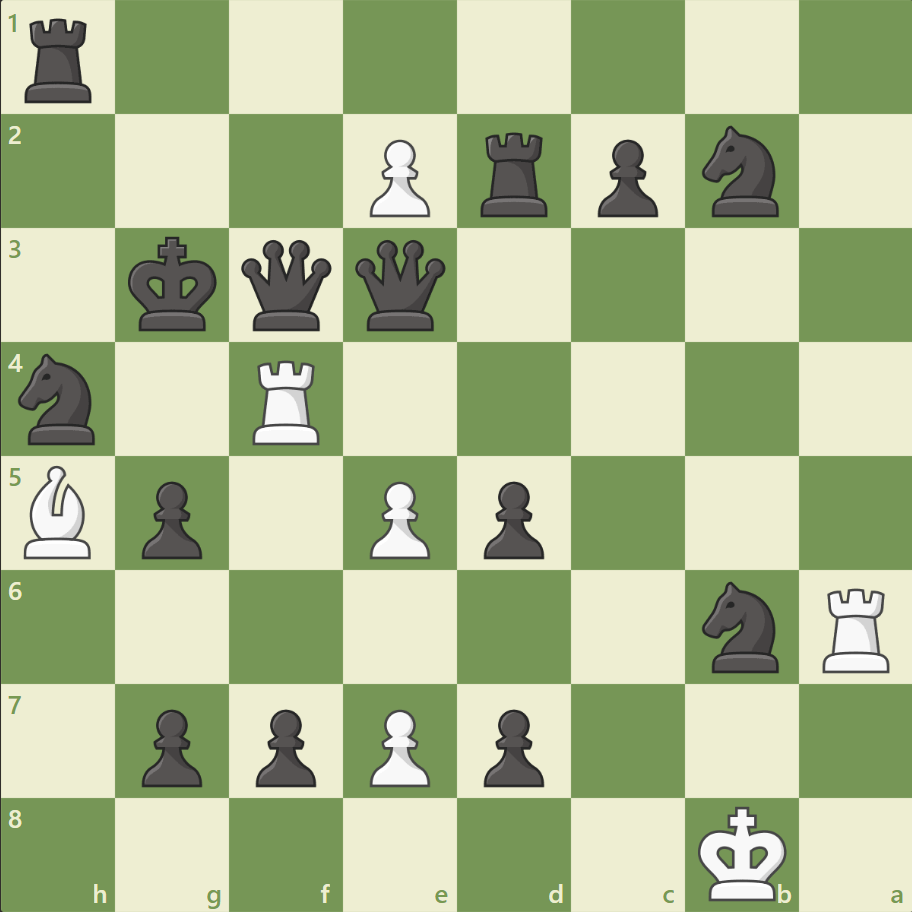B: (17, 460, 101, 563)
K: (692, 798, 792, 906)
P: (361, 700, 435, 791), (361, 473, 435, 564), (361, 132, 435, 223)
R: (814, 579, 897, 676), (246, 352, 329, 449)
k: (124, 231, 224, 339)
n: (692, 575, 789, 677), (11, 348, 108, 450), (692, 121, 789, 223)
p: (474, 700, 549, 791), (247, 700, 322, 791), (133, 700, 208, 791), (474, 473, 549, 564), (133, 473, 208, 564), (588, 132, 662, 223)
q: (351, 236, 450, 335), (237, 236, 336, 335)
r: (473, 125, 556, 222), (19, 12, 102, 109)
